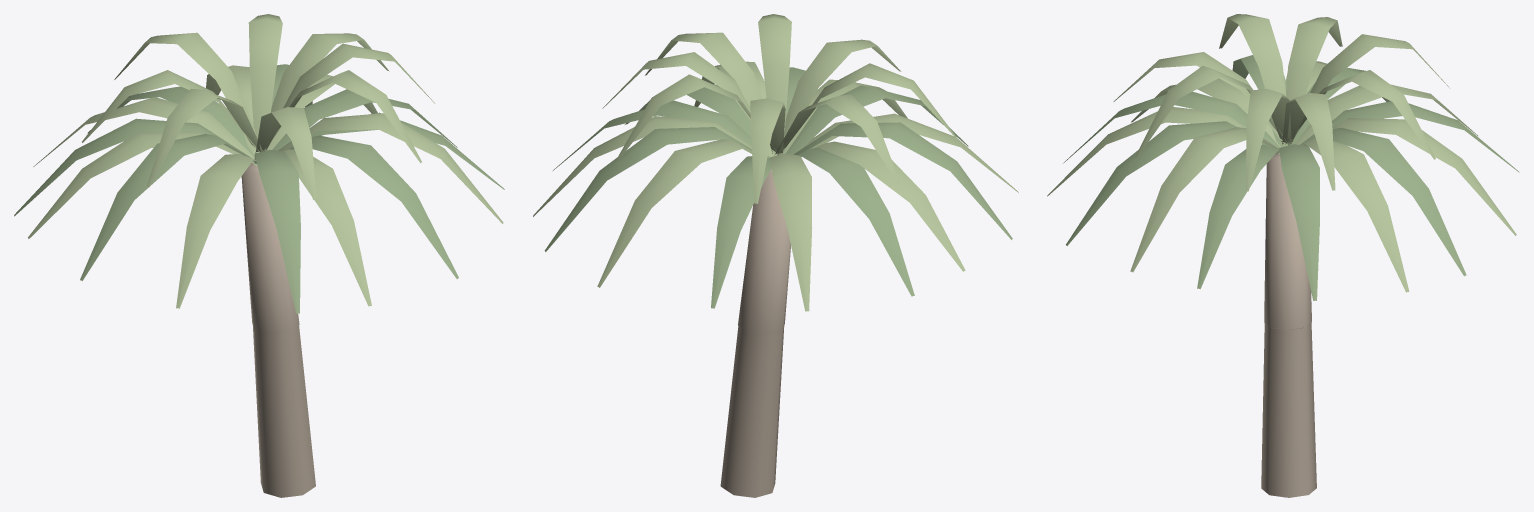
Rendered from small_palm_9.glb.
The picture shows the model from 3 angles, left to right: view 1: azimuth 30°, elevation 25°; view 2: azimuth 150°, elevation 25°; view 3: azimuth 270°, elevation 25°; orthographic projection. The views are drawn at different scales.
Parts seen in each view (by area): view 1: small_palm_9.glb; view 2: small_palm_9.glb; view 3: small_palm_9.glb.
Part boxes in pixels (<box>): small_palm_9.glb: <box>14,14,504,497</box>; small_palm_9.glb: <box>533,14,1018,497</box>; small_palm_9.glb: <box>1047,14,1519,497</box>.
Bounding box in the file's own units: 3.07 × 3.05 × 3.05.
